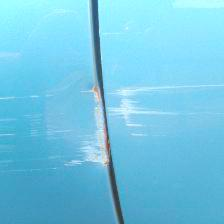door_scratch: (24, 68, 207, 194)
